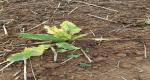zhavel: (7, 20, 92, 62)
